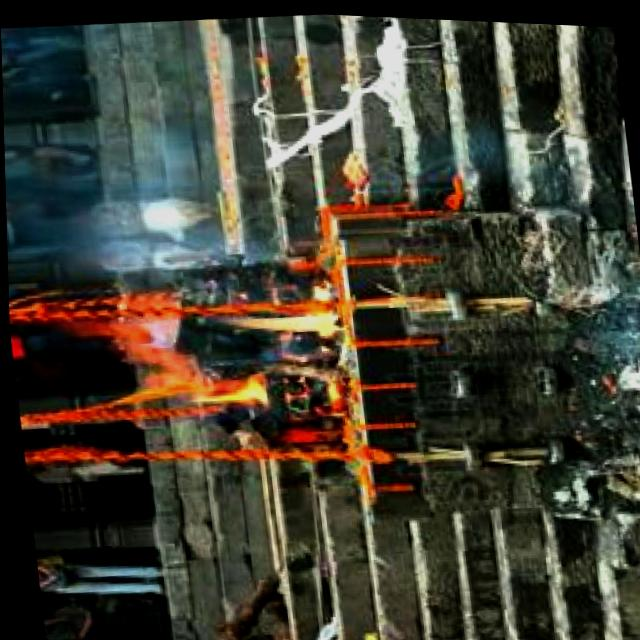helmet: (79, 278, 359, 421)
